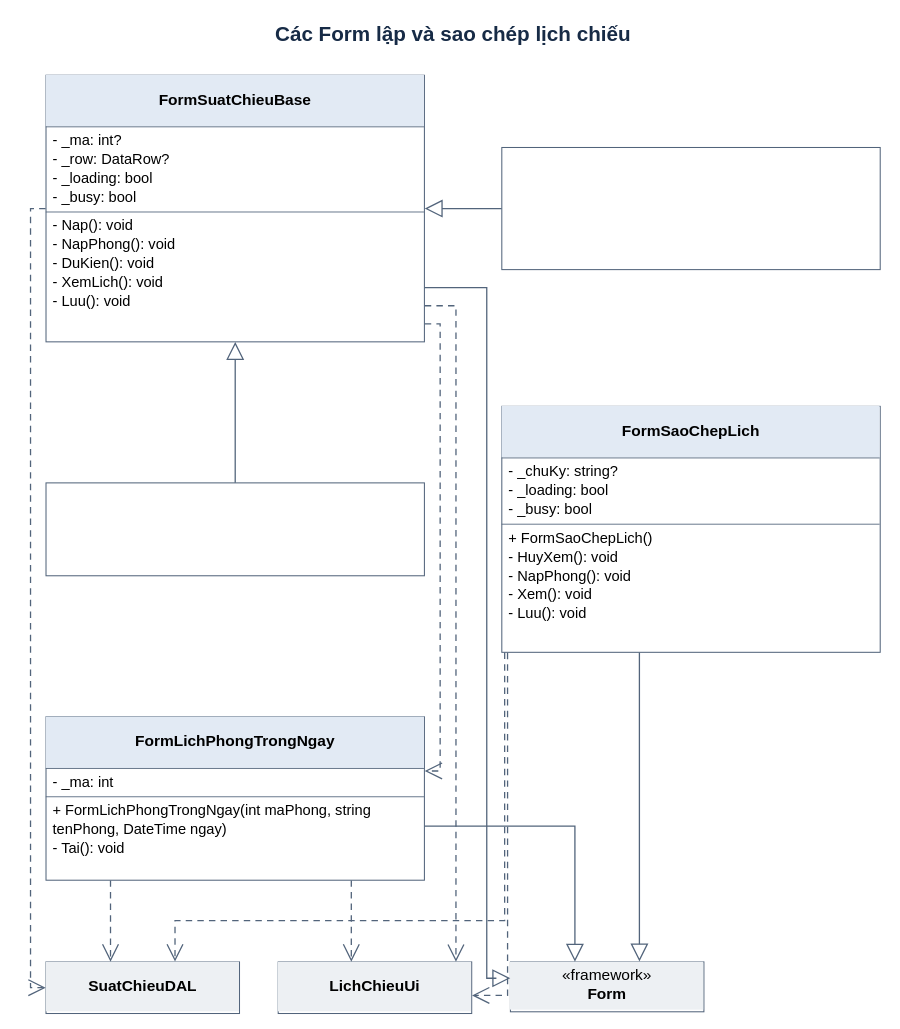
This 900x1029 diagram has some shape labels left out. The shapes that lost their labels are listed below. From the top down, each one's centre as x and y in pixels, then its label:
At point 690,208: "FormThemSuatChieu + MaSuatChieuMoi: int + FormThemSuatChieu()".
At point 234,529: "FormSuaSuatChieu + FormSuaSuatChieu(int ma, DataRow row)".
